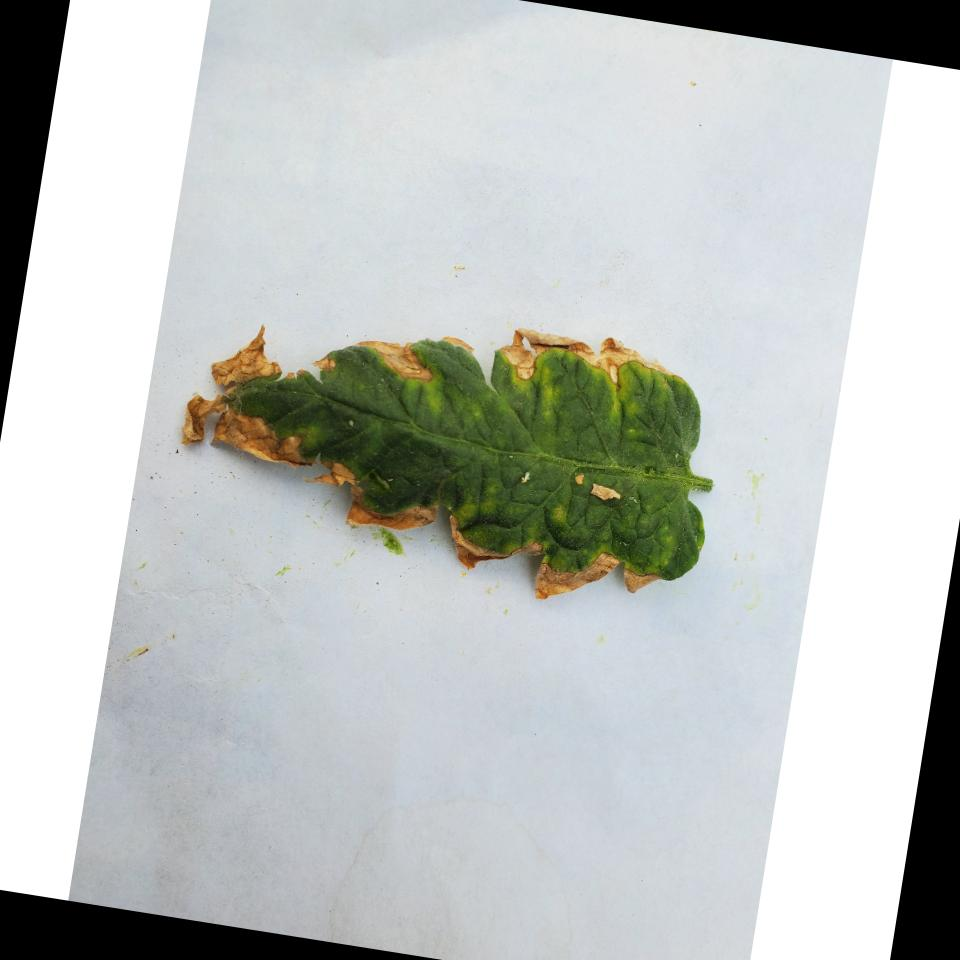tomato_bacterial_blight: (163, 290, 730, 618)
